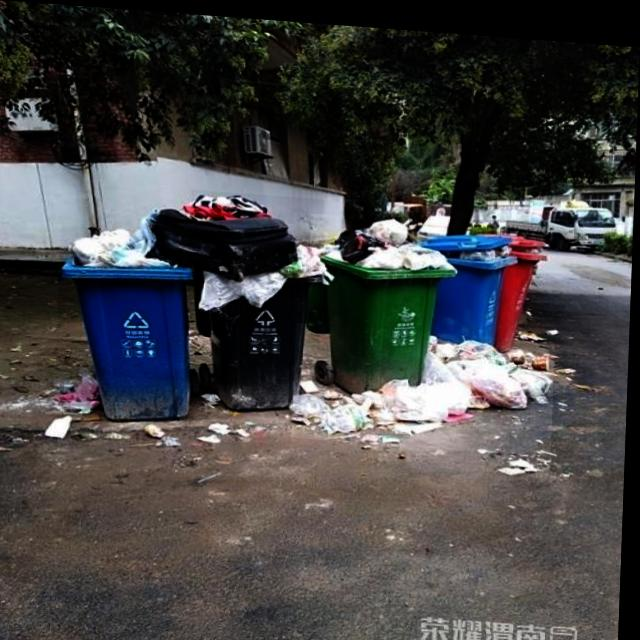garbage: (295, 318, 557, 448), (47, 370, 254, 447)
overflow: (187, 186, 327, 411), (307, 208, 459, 393), (57, 224, 198, 420), (421, 224, 518, 338)
